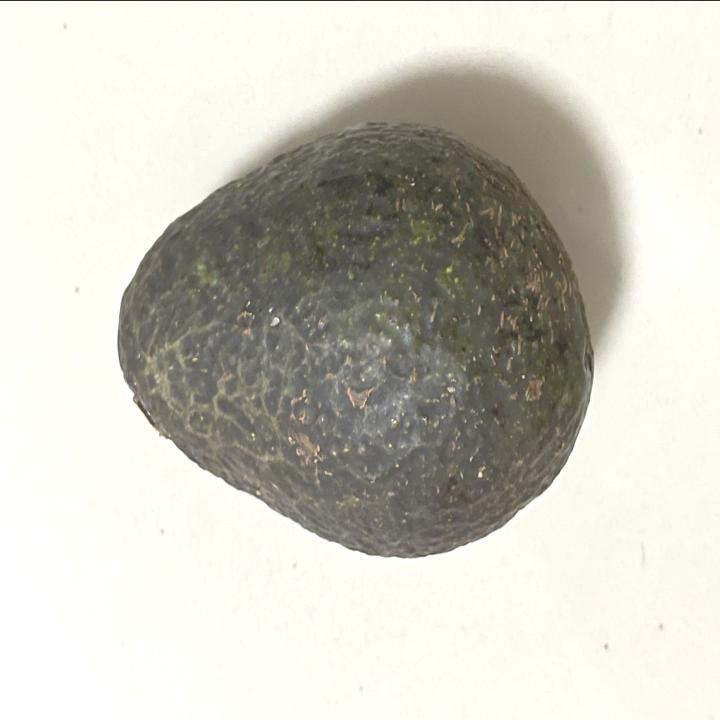Level1: (109, 107, 609, 574)
